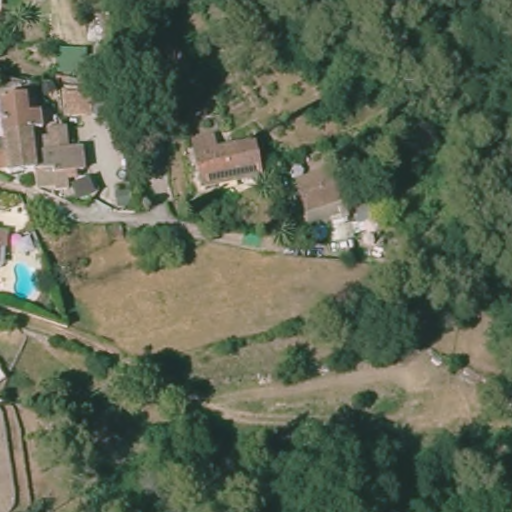pool: (10, 253, 44, 304)
